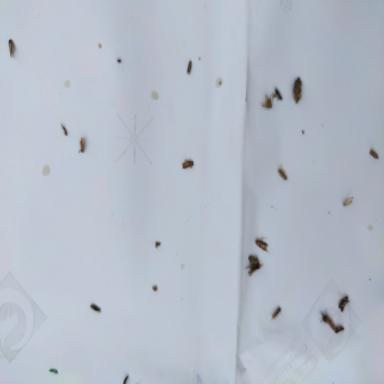pbw: (244, 262, 263, 276), (256, 235, 270, 253), (77, 132, 87, 154), (338, 294, 350, 312), (277, 164, 288, 179), (270, 306, 281, 320), (88, 302, 101, 313), (343, 195, 354, 206), (8, 38, 14, 58), (182, 159, 194, 169), (368, 148, 379, 158), (186, 60, 192, 76)
